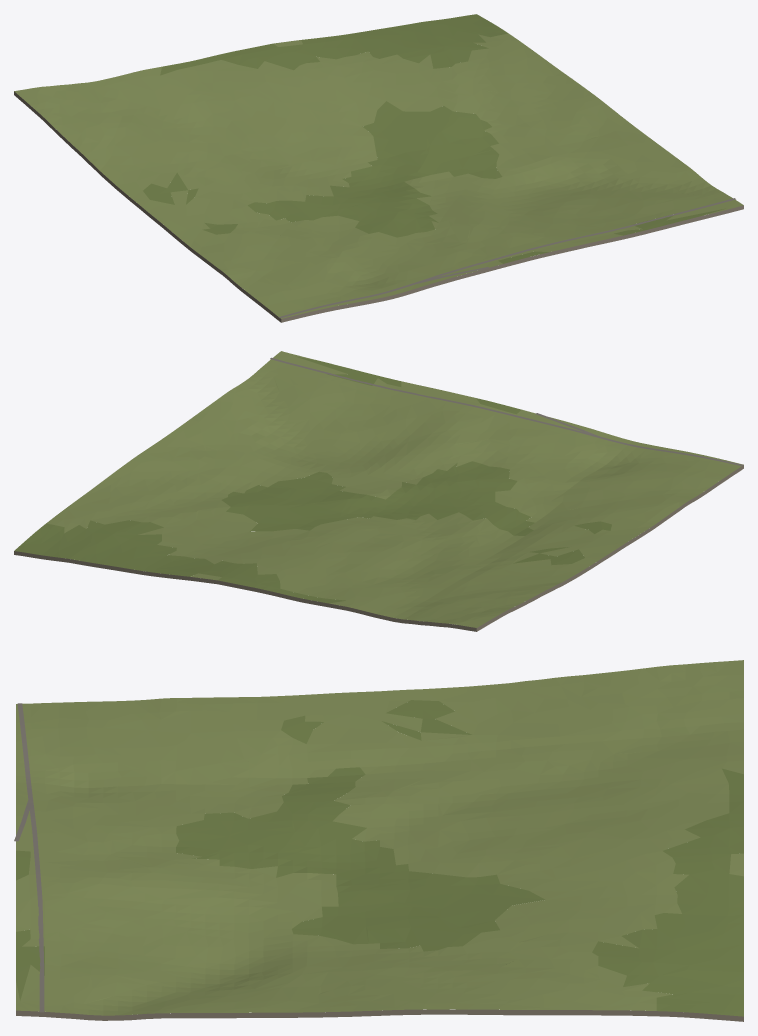
File: parca_+9_-2-uzak.glb
3 renders of one model, top to bottom at view 1: azimuth 30°, elevation 25°; view 2: azimuth 150°, elevation 25°; view 3: azimuth 270°, elevation 25°, orthographic. The views are drawn at different scales.
Parts seen in each view (by area): view 1: parca_+9_-2_arazi_uzak, parca_+9_-2_yollar_uzak; view 2: parca_+9_-2_arazi_uzak, parca_+9_-2_yollar_uzak; view 3: parca_+9_-2_arazi_uzak, parca_+9_-2_yollar_uzak.
Boxes of the visible parts, box(x1,y1,x2,y2) form: parca_+9_-2_arazi_uzak: box(14, 14, 743, 322); parca_+9_-2_yollar_uzak: box(278, 198, 735, 318); parca_+9_-2_arazi_uzak: box(14, 351, 743, 631); parca_+9_-2_yollar_uzak: box(270, 357, 743, 465); parca_+9_-2_arazi_uzak: box(16, 660, 743, 1021); parca_+9_-2_yollar_uzak: box(14, 703, 44, 1012).
Bounding box in the file's own units: 1003 × 97.44 × 1003.
